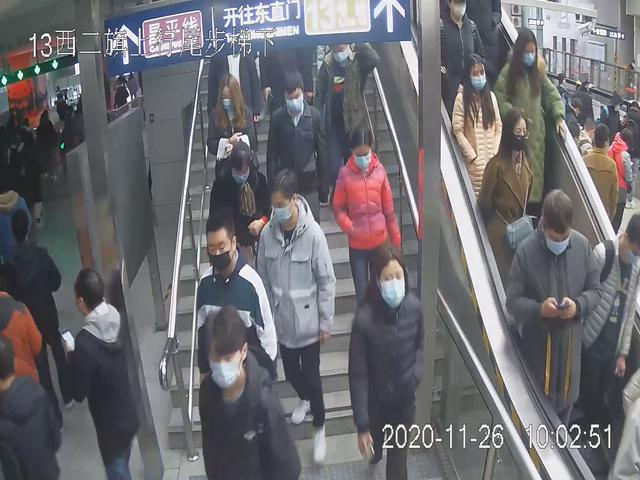person: (503, 186, 603, 459), (254, 166, 339, 466), (193, 209, 279, 475), (198, 302, 306, 480), (347, 240, 427, 480), (55, 261, 142, 480), (574, 205, 640, 480), (329, 124, 404, 342), (494, 24, 567, 243), (263, 69, 337, 266), (306, 35, 386, 210), (205, 138, 276, 335), (474, 105, 533, 309), (451, 51, 504, 247)
